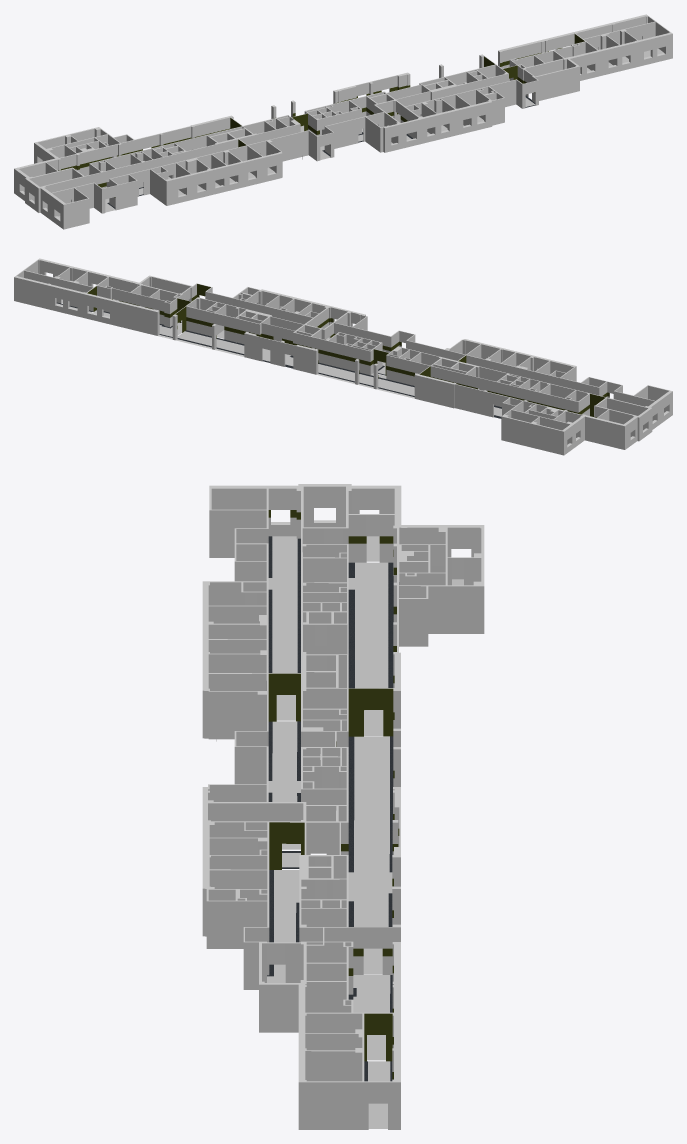
Rendered from Coridor_4thFloor.fbx.
The picture shows the model from 3 angles, top to bottom: view 1: azimuth 30°, elevation 25°; view 2: azimuth 150°, elevation 25°; view 3: azimuth 270°, elevation 25°; orthographic projection. The views are drawn at different scales.
Visible parts, largest first — view 1: Plane; view 2: Plane; view 3: Plane.
Boxes of the visible parts, x1,y1,x2,y2 form: Plane: [14, 14, 672, 229]; Plane: [14, 258, 672, 455]; Plane: [202, 484, 484, 1129].
Size of the model in its own units: 11309 by 420 by 2251.
